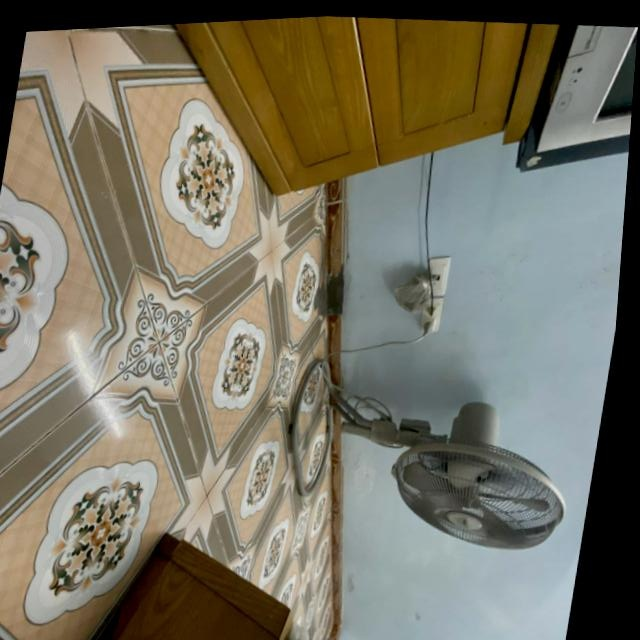outlet: (423, 254, 451, 298), (420, 295, 445, 333)
